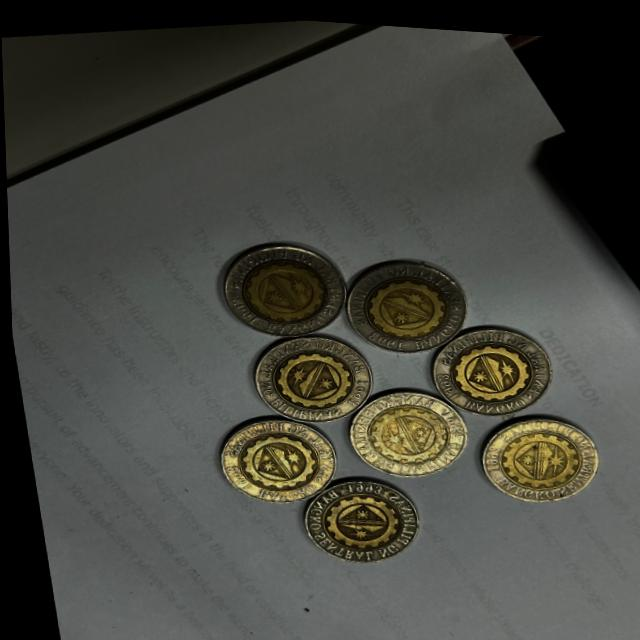10_Old_Back: (338, 245, 470, 354), (294, 466, 435, 564), (336, 379, 470, 482), (215, 409, 346, 510), (215, 233, 343, 335), (421, 314, 556, 410), (473, 405, 601, 504), (245, 324, 369, 425)
